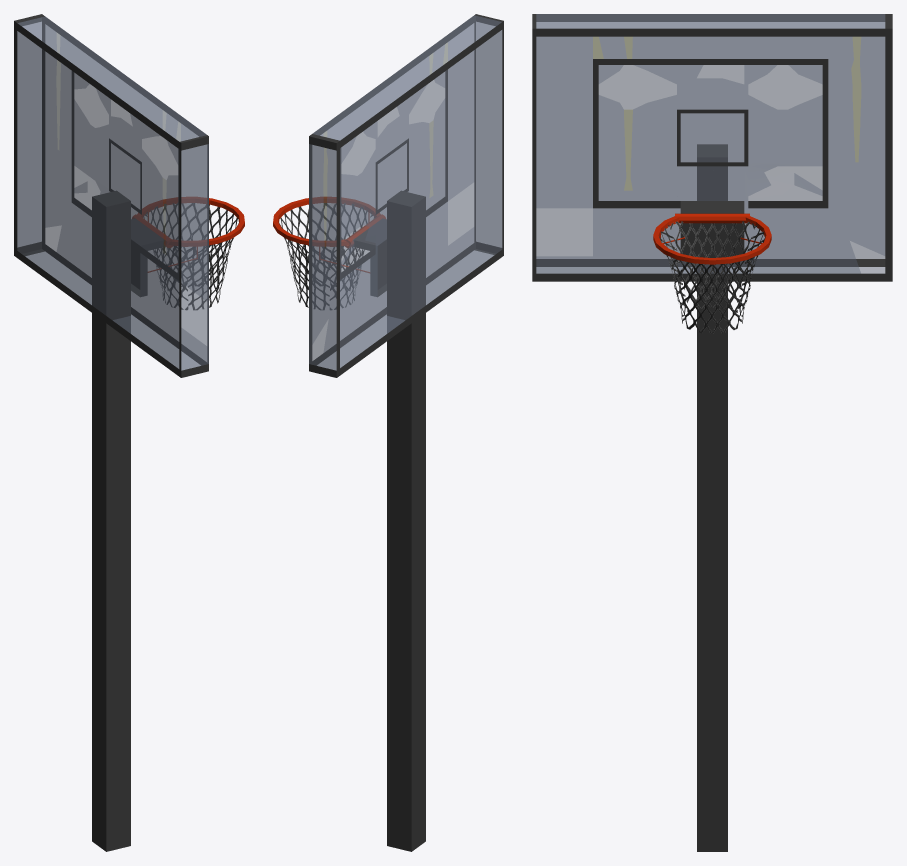
The model's file is Basketball Hoop.fbx.
3 renders of one model, left to right at view 1: azimuth 30°, elevation 25°; view 2: azimuth 150°, elevation 25°; view 3: azimuth 270°, elevation 25°, orthographic. The views are drawn at different scales.
Visible parts, largest first — view 1: pCylinder8; view 2: pCylinder8; view 3: pCylinder8.
Part boxes in pixels (x1=…): pCylinder8: x1=14, y1=14, x2=244, y2=851; pCylinder8: x1=273, y1=14, x2=503, y2=851; pCylinder8: x1=532, y1=14, x2=892, y2=851.
Bounding box in the file's own units: 3.84 × 20.03 × 7.93.
6 materials, 1 textured.
